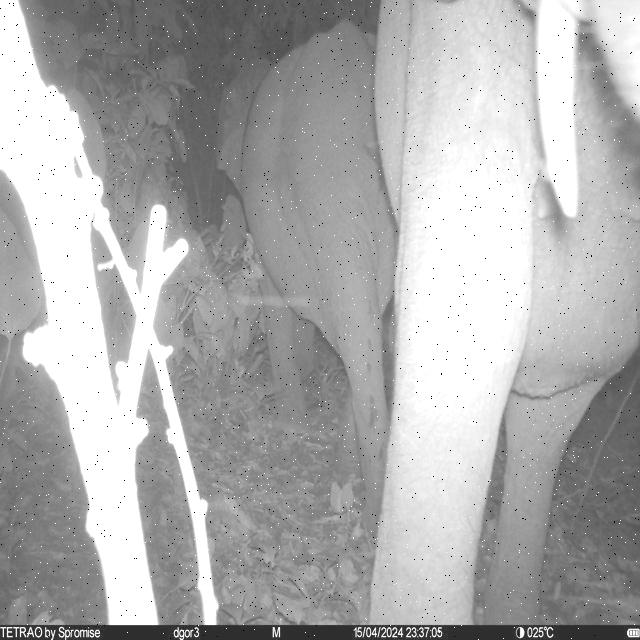ear: (217, 58, 272, 198)
elephant: (374, 1, 640, 625), (217, 19, 399, 542)
tusk: (536, 2, 580, 220)
